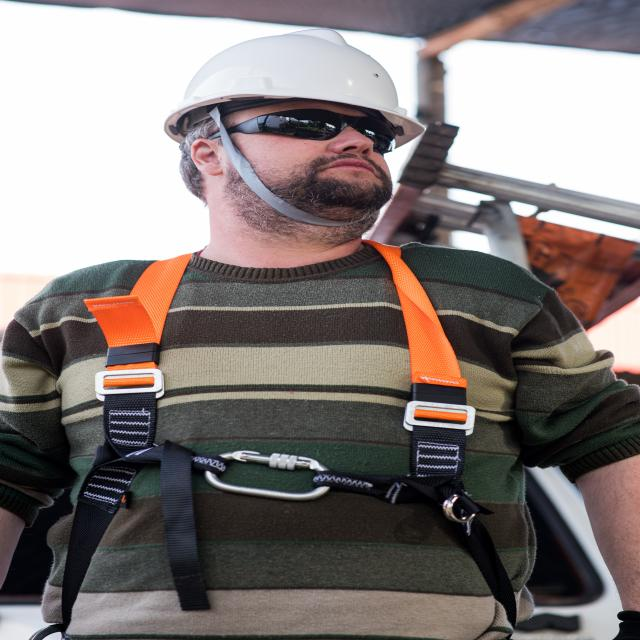capacete: (156, 21, 432, 158)
corda de vida: (28, 230, 533, 640)
